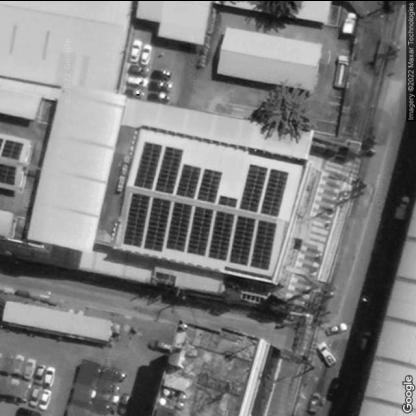solar-pv-panel: (127, 138, 289, 269)
